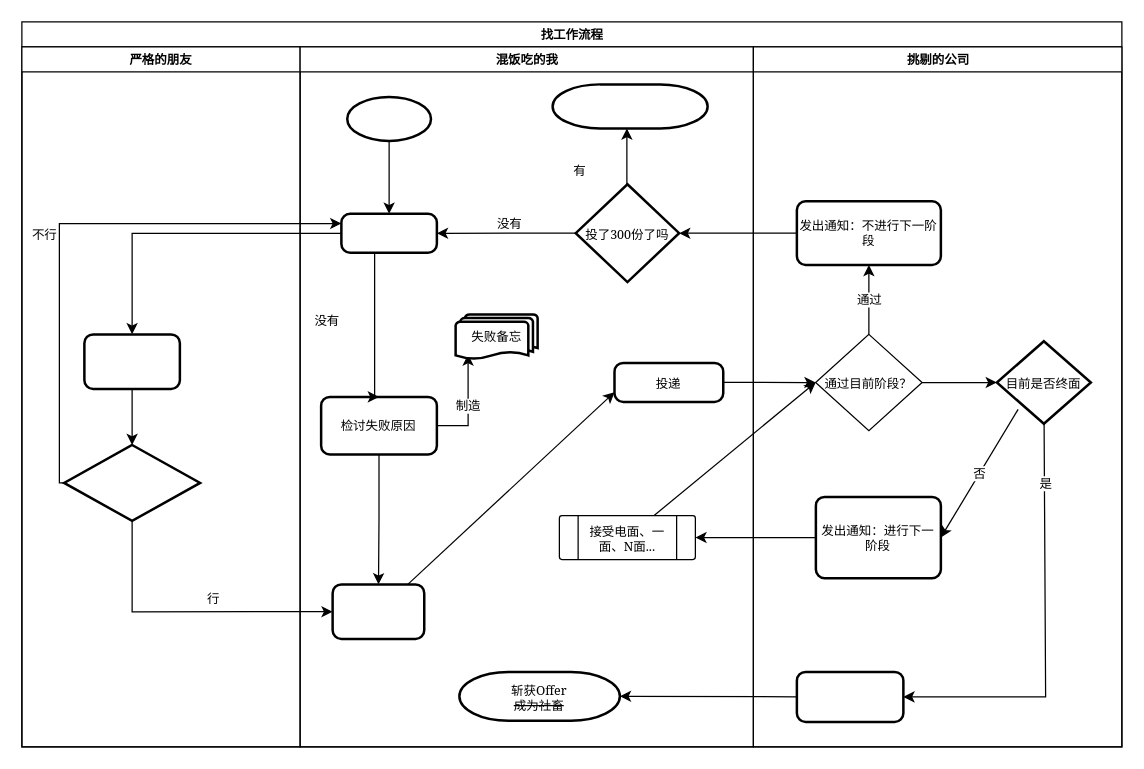
The diagram is 1144 pixels wide and 769 high, and some of its shapes have lost their labels. The shapes that lost their labels are listed below. From the top down, each one's box as (x1, y1, x2, y2) in pixels, then its label:
(345, 95, 432, 142): 开始找工作
(551, 82, 708, 129): 放弃投递，啃老/成为外卖骑手
(340, 212, 438, 253): 准备简历
(82, 332, 180, 390): 给朋友审核一下
(62, 443, 201, 522): 朋友觉得 简历行不行？
(331, 582, 425, 640): 选择职位
(795, 670, 904, 722): 发出通知：录取
